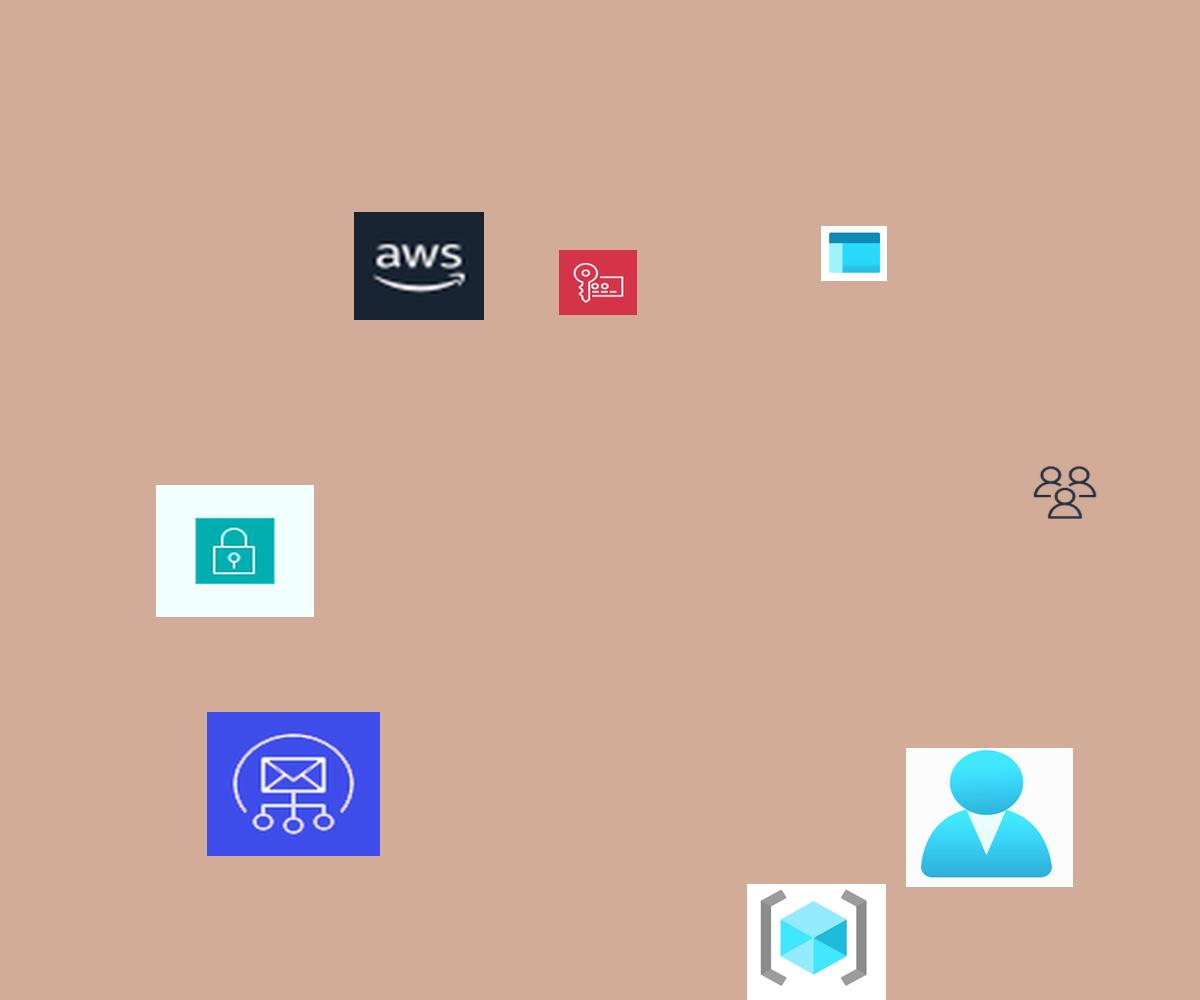AWS-Cloud-logo: (354, 212, 484, 320)
AWS-Key-Management-Service: (559, 250, 637, 315)
AWS-Private-subnet: (156, 485, 314, 617)
AWS-Res_Users: (1031, 464, 1099, 521)
AWS-Simple-Email-Service: (207, 712, 380, 856)
Azure_management-portal: (821, 226, 887, 281)
Azure_resource_group: (747, 884, 886, 1000)
Azure_users: (906, 748, 1073, 887)
